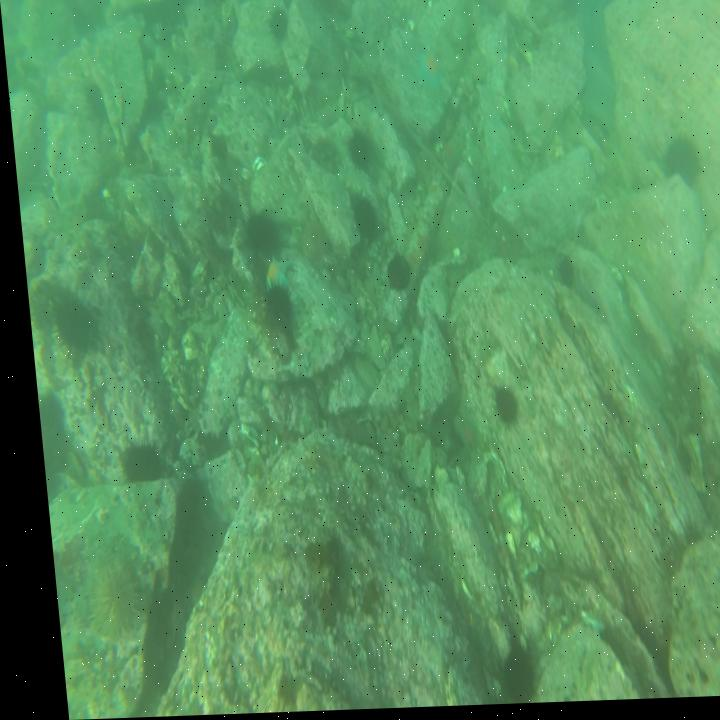echinus: (75, 559, 134, 641), (43, 288, 91, 356), (482, 644, 524, 706), (111, 436, 159, 489), (660, 138, 700, 197), (256, 281, 289, 338), (344, 125, 373, 173), (483, 383, 510, 430), (378, 252, 407, 293), (239, 213, 268, 252), (347, 198, 372, 238), (266, 5, 289, 48), (549, 254, 571, 286), (206, 136, 228, 164)
starfish: (415, 50, 445, 99), (253, 256, 286, 296)
